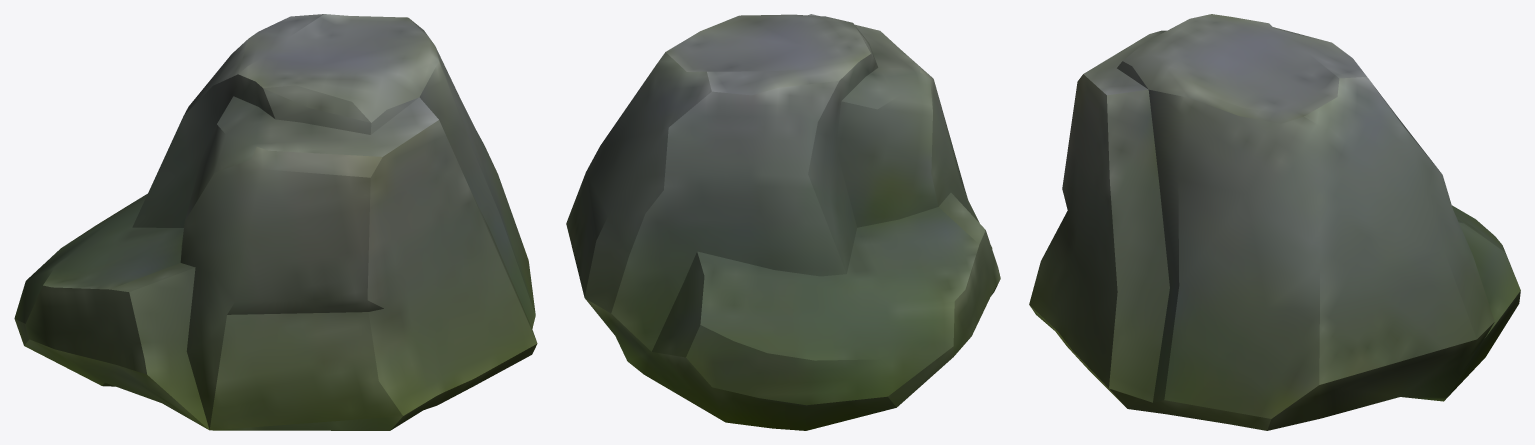
Rendered from rockmed.glb.
The picture shows the model from 3 angles, left to right: view 1: azimuth 30°, elevation 25°; view 2: azimuth 150°, elevation 25°; view 3: azimuth 270°, elevation 25°; orthographic projection. The views are drawn at different scales.
Visible parts, largest first — view 1: Rock_Medium_1; view 2: Rock_Medium_1; view 3: Rock_Medium_1.
Part boxes in pixels (box(x1,y1,x2,y2)): Rock_Medium_1: box(14, 14, 537, 430); Rock_Medium_1: box(566, 14, 1000, 430); Rock_Medium_1: box(1029, 14, 1520, 430).
Bounding box in the file's own units: 3.23 × 2.26 × 2.99.
1 material, 1 textured.
